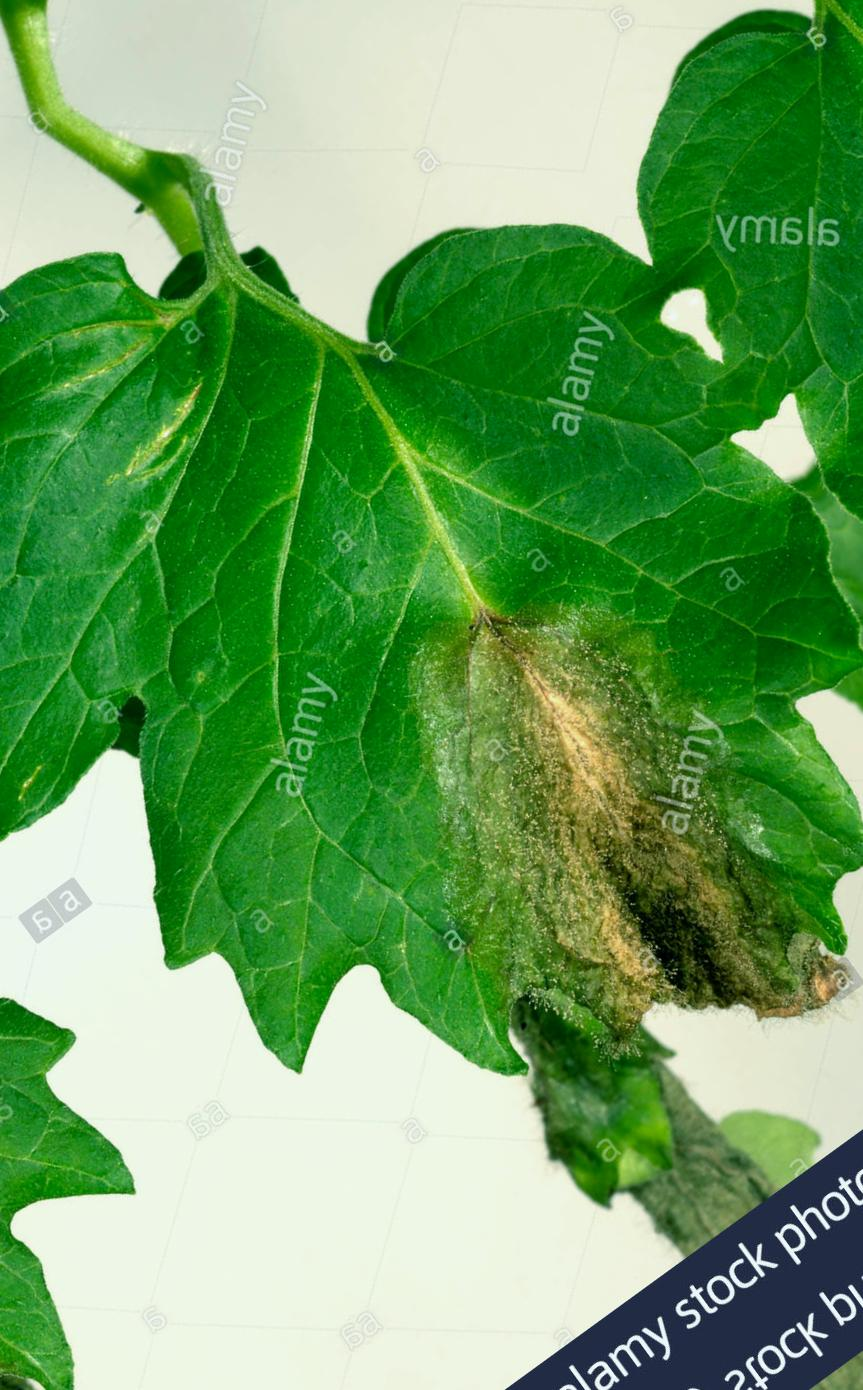Tomato mold leaf: (0, 0, 863, 1372)
